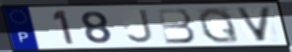1: (51, 9, 78, 46)
8: (80, 10, 114, 44)
B: (155, 7, 198, 45)
J: (125, 8, 157, 45)
Q: (197, 6, 242, 44)
V: (233, 6, 274, 43)
